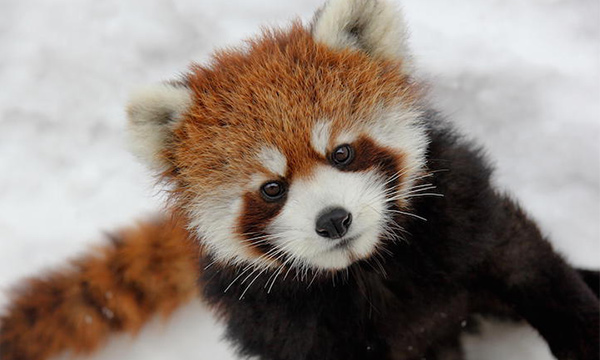red_panda: (1, 21, 600, 358)
